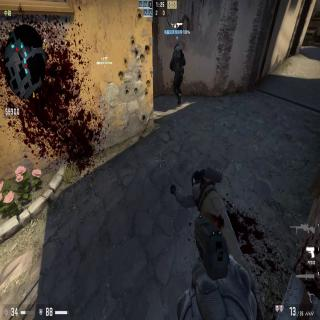CT-Body: (169, 43, 186, 105)
CT-Head: (173, 43, 180, 50)
